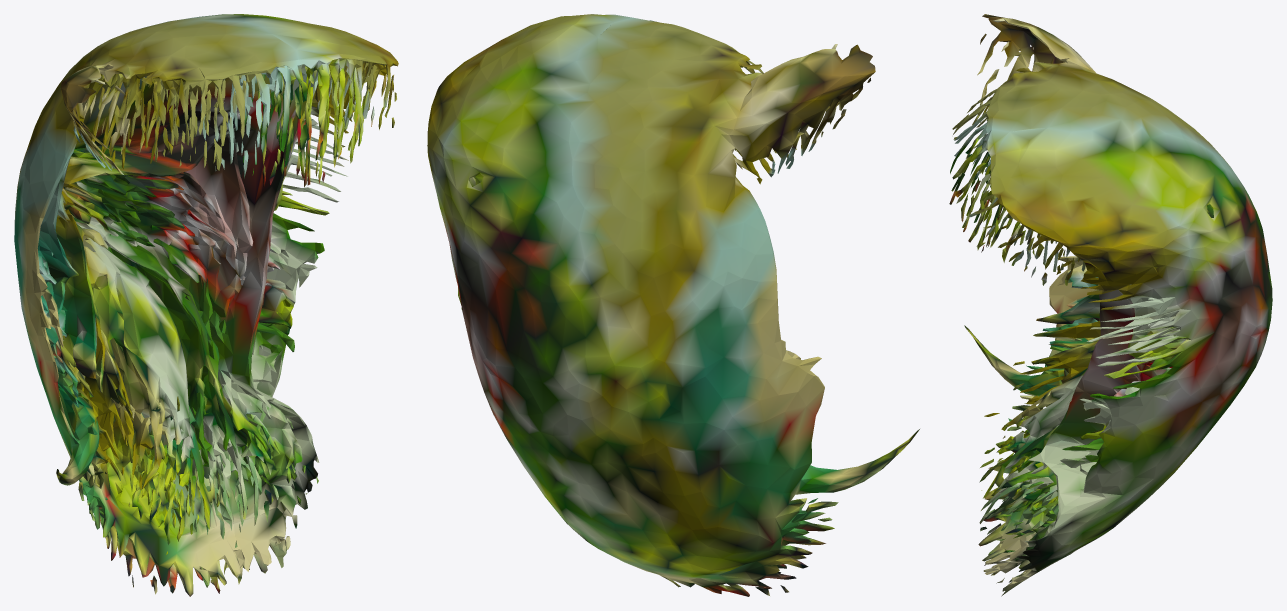
File: berserker.glb
3 views of the same model, side by side, from view 1: azimuth 30°, elevation 25°; view 2: azimuth 150°, elevation 25°; view 3: azimuth 270°, elevation 25° (orthographic). The views are drawn at different scales.
Parts seen in each view (by area): view 1: world; view 2: world; view 3: world.
Boxes of the visible parts, <box> form: world: <box>14,14,398,596</box>; world: <box>427,14,919,596</box>; world: <box>949,14,1272,596</box>.
Bounding box in the file's own units: 0.7636 × 1 × 0.5882.
